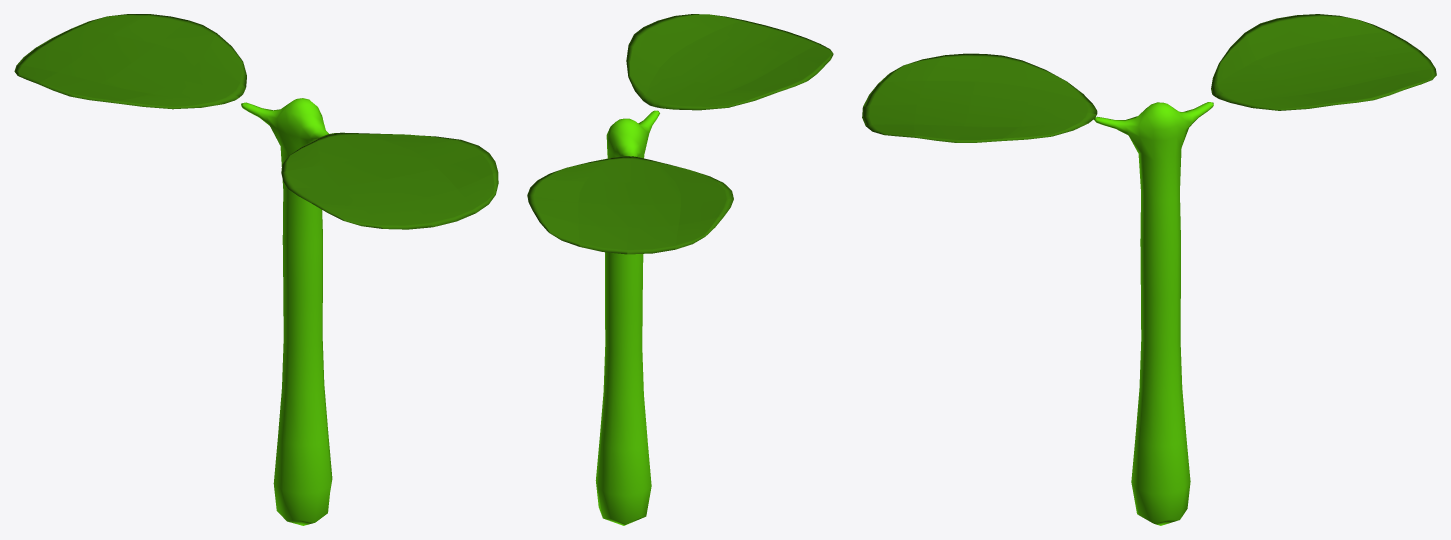
The model's file is BES GERM SDM New.fbx.
3 views of the same model, side by side, from view 1: azimuth 30°, elevation 25°; view 2: azimuth 150°, elevation 25°; view 3: azimuth 270°, elevation 25° (orthographic). The views are drawn at different scales.
Parts seen in each view (by area): view 1: Cylinder, Plane, Plane.001; view 2: Plane.001, Plane, Cylinder; view 3: Cylinder, Plane, Plane.001.
Part boxes in pixels (x1,y1,x2,y2): Cylinder: [241, 98, 332, 525]; Plane: [281, 132, 498, 229]; Plane.001: [14, 14, 246, 109]; Plane.001: [527, 156, 733, 254]; Plane: [626, 14, 833, 110]; Cylinder: [595, 110, 659, 525]; Cylinder: [1094, 102, 1213, 525]; Plane: [862, 53, 1097, 142]; Plane.001: [1211, 14, 1436, 110].
Size of the model in its own units: 60.14 by 91.47 by 112.
